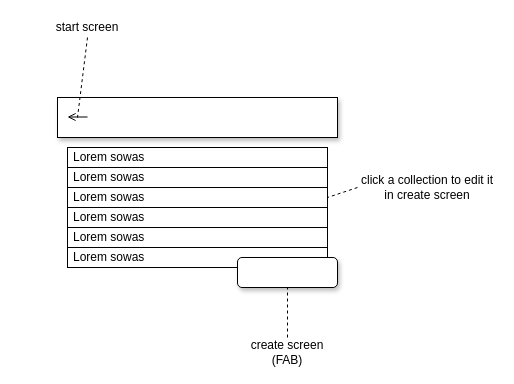
Image size: 514x384. Some labels were removed from this diagram. The centre of each missing label's shape, as x and y in pixels:
Collections: (x=198, y=118)
Create New +: (x=288, y=273)
